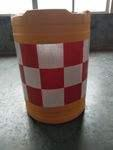sign: (11, 5, 94, 124)
